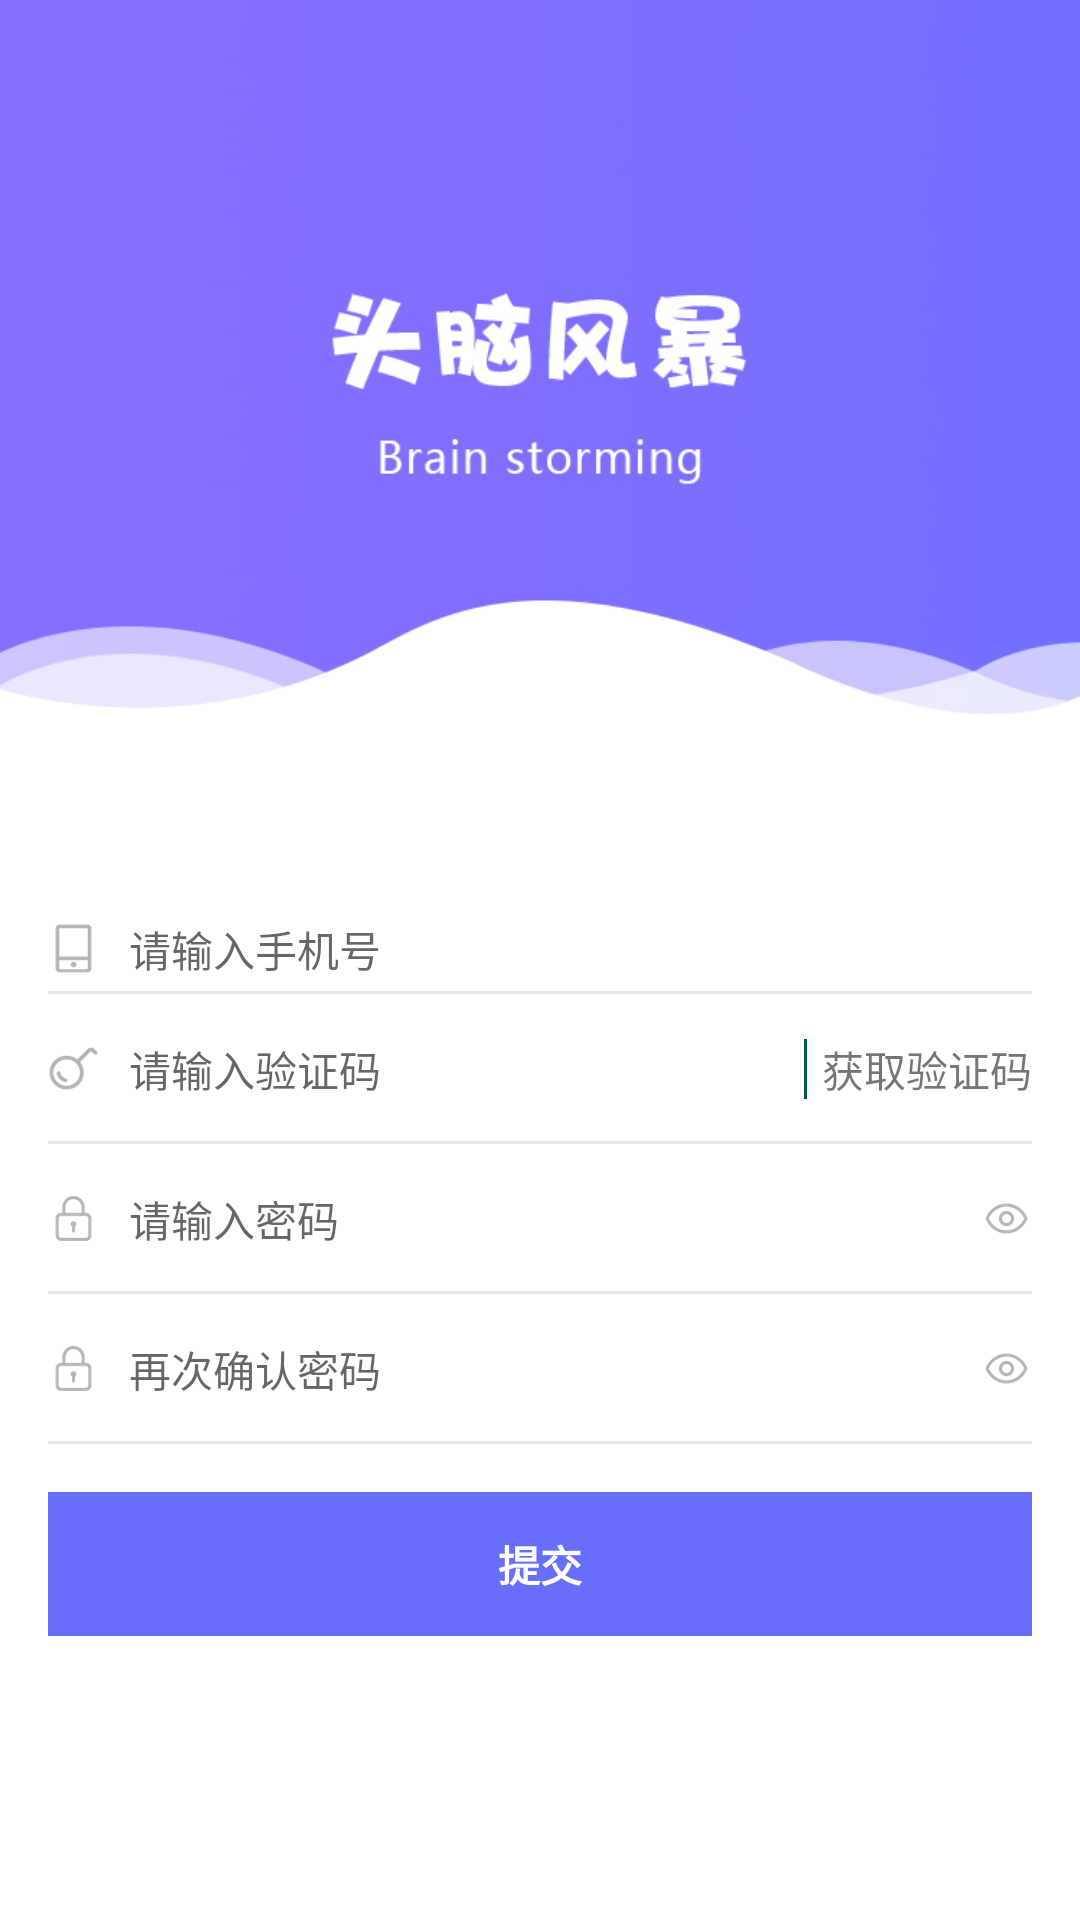

Where icons sit on this 1080*1920 app screen, as (x1,y1,x2,y2):
password: (55,1196,92,1241), (55,1346,92,1391)
phone: (55,924,92,973)
show: (986,1203,1027,1234), (986,1353,1027,1384)
